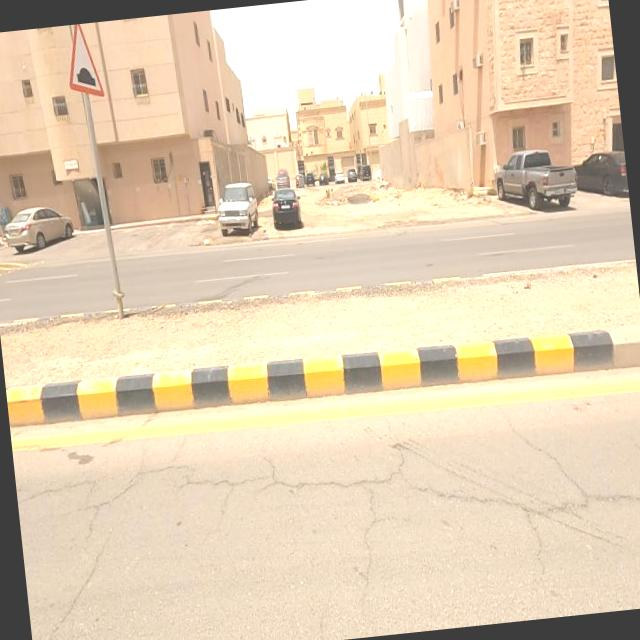debris: (186, 215, 228, 278), (302, 187, 354, 218)
